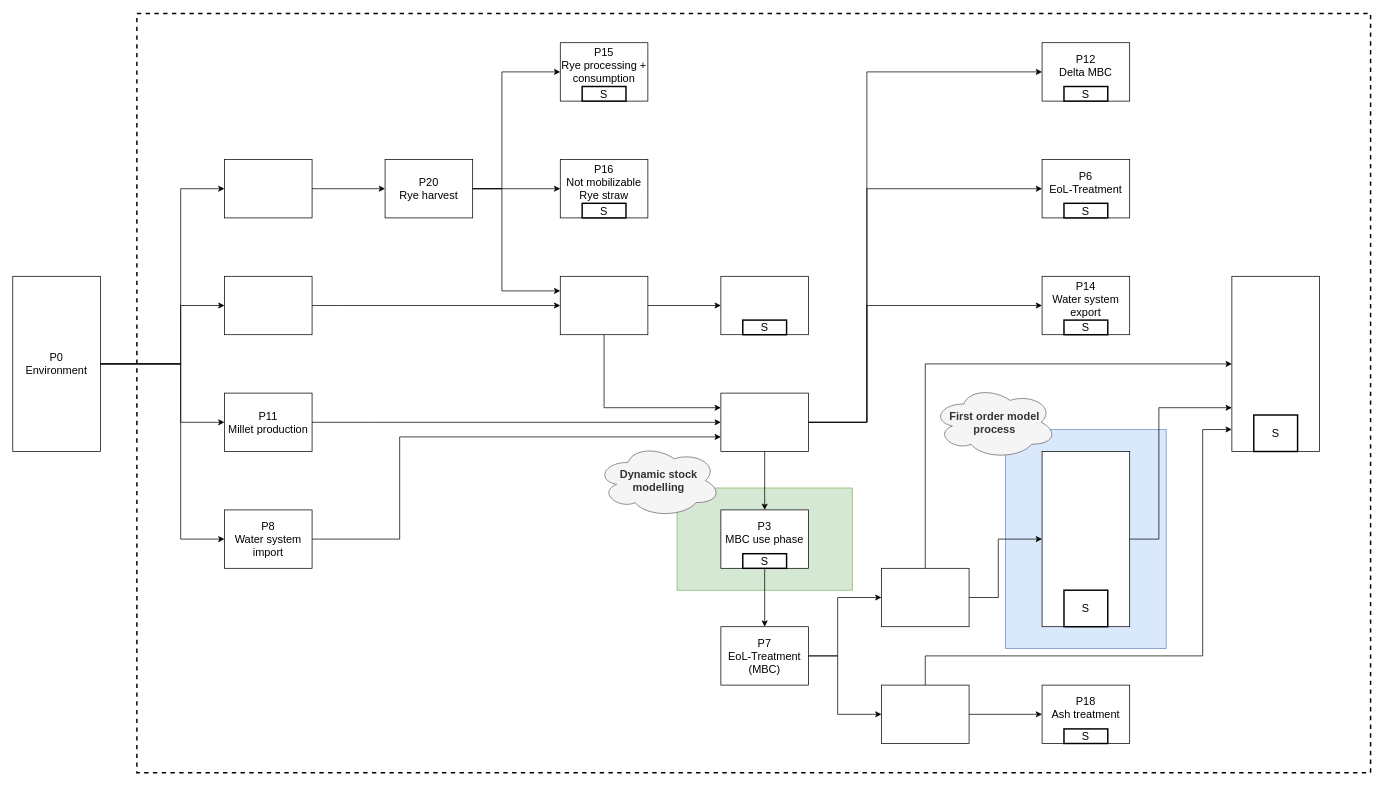
Image size: 1384x785. Some labels were removed from this diagram. Each missing label, with the box of its shape:
P1 Biogas production: (560, 276, 648, 335)
P10 Biomass incineration: (881, 684, 969, 744)
P13 Rye cultivation: (224, 159, 312, 218)
P17 Litosphere: (1041, 451, 1130, 627)
P19 Atmosphere: (1231, 276, 1319, 452)
P2 MBC production: (720, 392, 808, 452)
P4 Life stock farming: (224, 276, 312, 335)
P5 Biogas incineration: (720, 276, 808, 335)
P9 Biomass pyrolysis: (881, 568, 969, 627)
